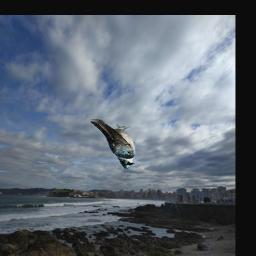Swallow: (90, 119, 135, 169)
